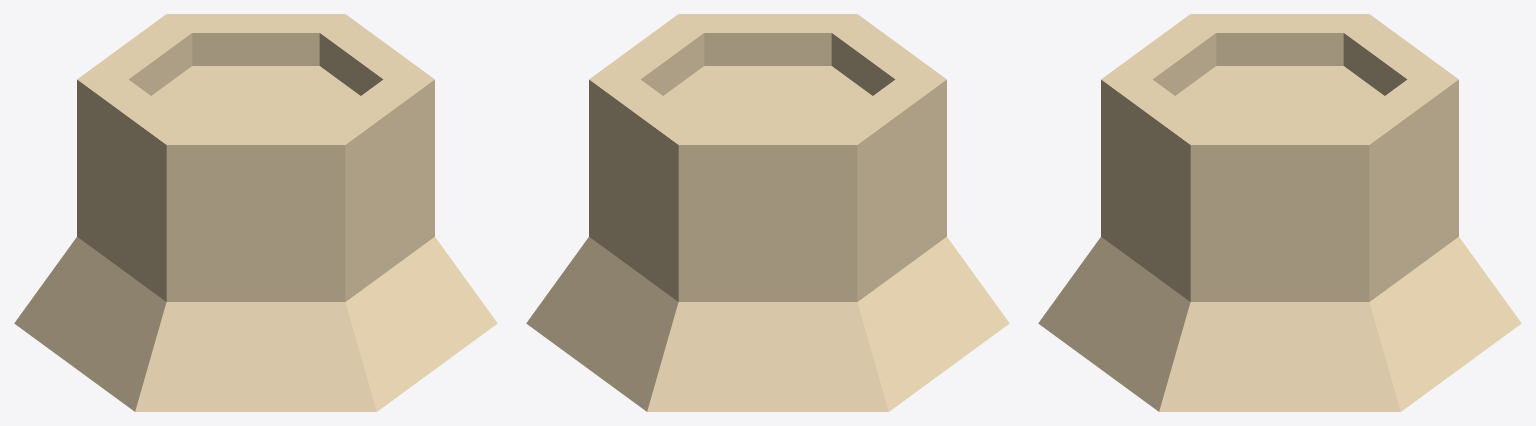
The model's file is naturePack_079.fbx.
3 views of the same model, side by side, from view 1: azimuth 30°, elevation 25°; view 2: azimuth 150°, elevation 25°; view 3: azimuth 270°, elevation 25° (orthographic).
Visible parts, largest first — view 1: naturePack_079; view 2: naturePack_079; view 3: naturePack_079.
Boxes of the visible parts, left/top/right/bottom form: naturePack_079: left=14, top=14, right=497, bottom=411; naturePack_079: left=526, top=14, right=1009, bottom=411; naturePack_079: left=1038, top=14, right=1521, bottom=411.
Bounding box in the file's own units: 91.8 × 59 × 106.
